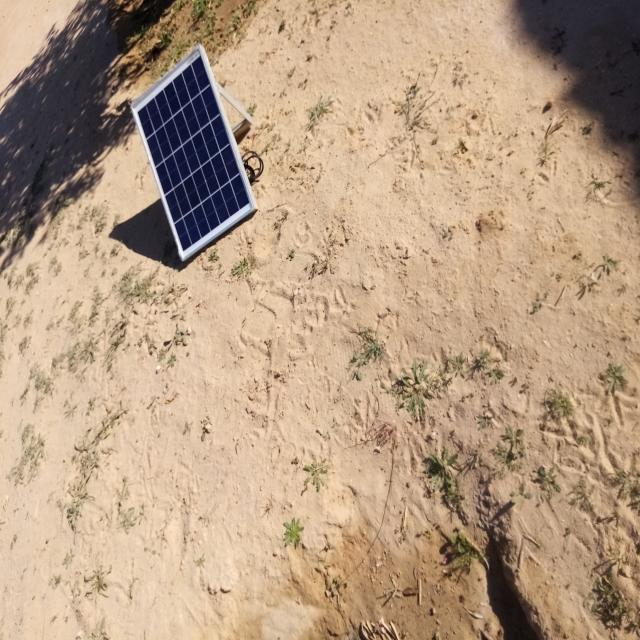Normal Solar Panel: (131, 46, 255, 261)
